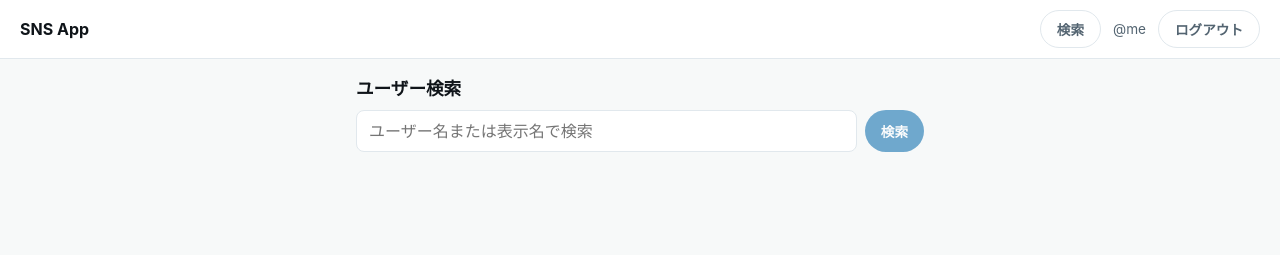
it: SearchPage › clicking a result's follow button toggles follow
Type "bob" into the field with placeholder "ユーザー名または表示名で検索" at {"x": 606, "y": 131}, box top-left (356, 110), bottom-right (857, 152)
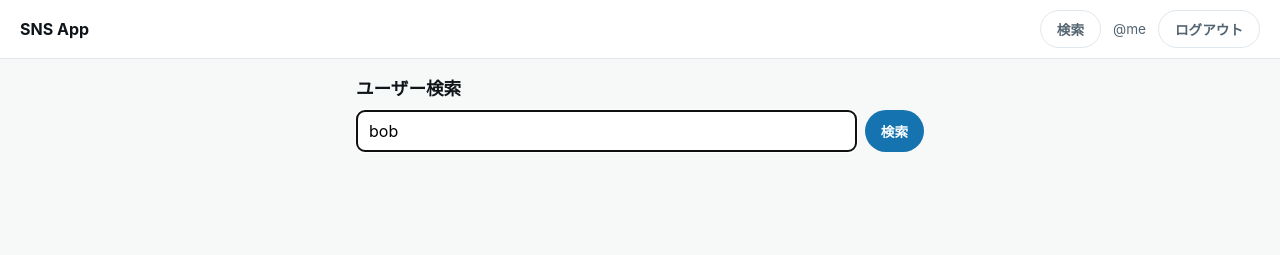
Click the button "検索" at {"x": 894, "y": 131}, box top-left (865, 110), bottom-right (924, 152)
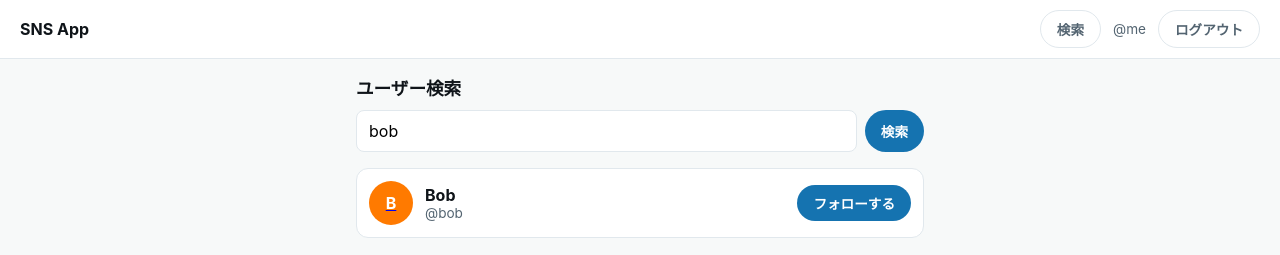
Click the button "フォローする" at {"x": 854, "y": 203}, box top-left (797, 185), bottom-right (911, 221)
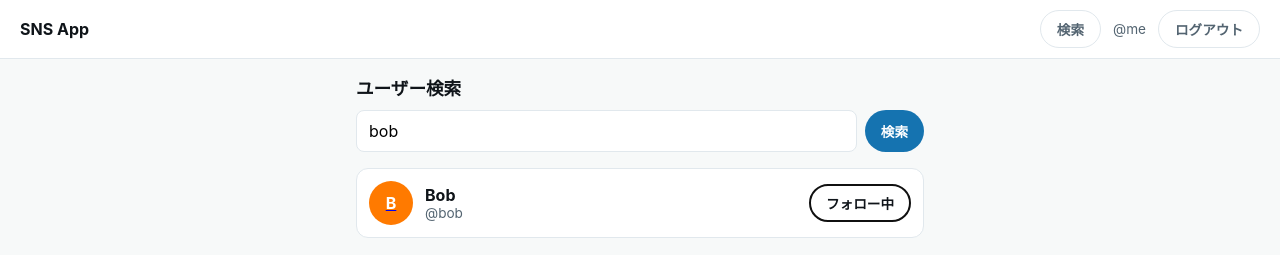
Result: the button "フォロー中" is shown at top-left (809, 184), bottom-right (911, 222)
